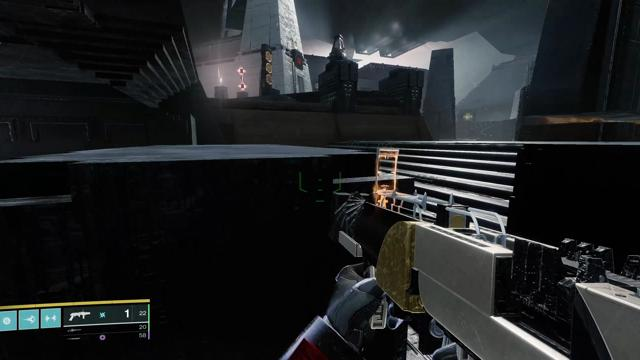brain: (314, 81, 319, 90)
stop: (296, 56, 302, 67)
